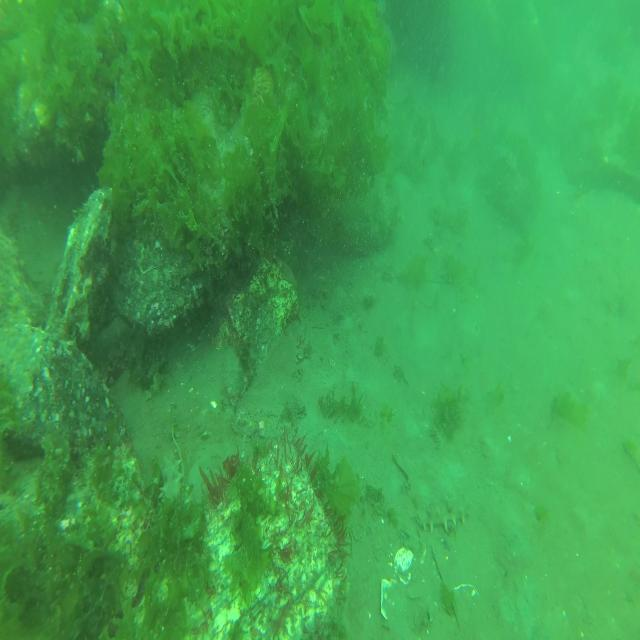holothurian: (414, 496, 472, 533), (158, 452, 184, 507), (492, 145, 518, 169)
scallop: (253, 64, 274, 105), (394, 546, 414, 586), (380, 578, 397, 620)
